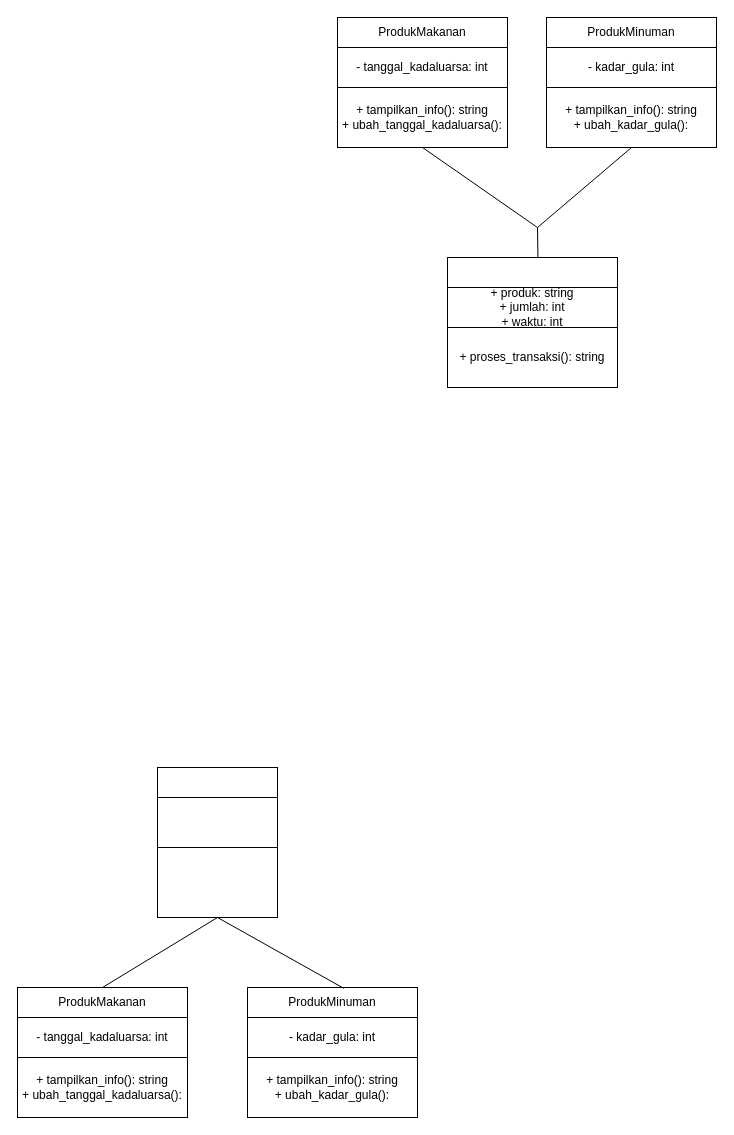
The diagram is 734 pixels wide and 1135 high, and some of its shapes have lost their labels. Each missing label, with the centre of its shape:
"+ kurangi_stok(): int + tambah_stok(): int + tampilkan_info(): string" goes at point (217, 882).
"- nama: string - harga: int - stok: int" goes at point (217, 822).
"Produk" goes at point (217, 782).
"Transaksi" goes at point (532, 272).
